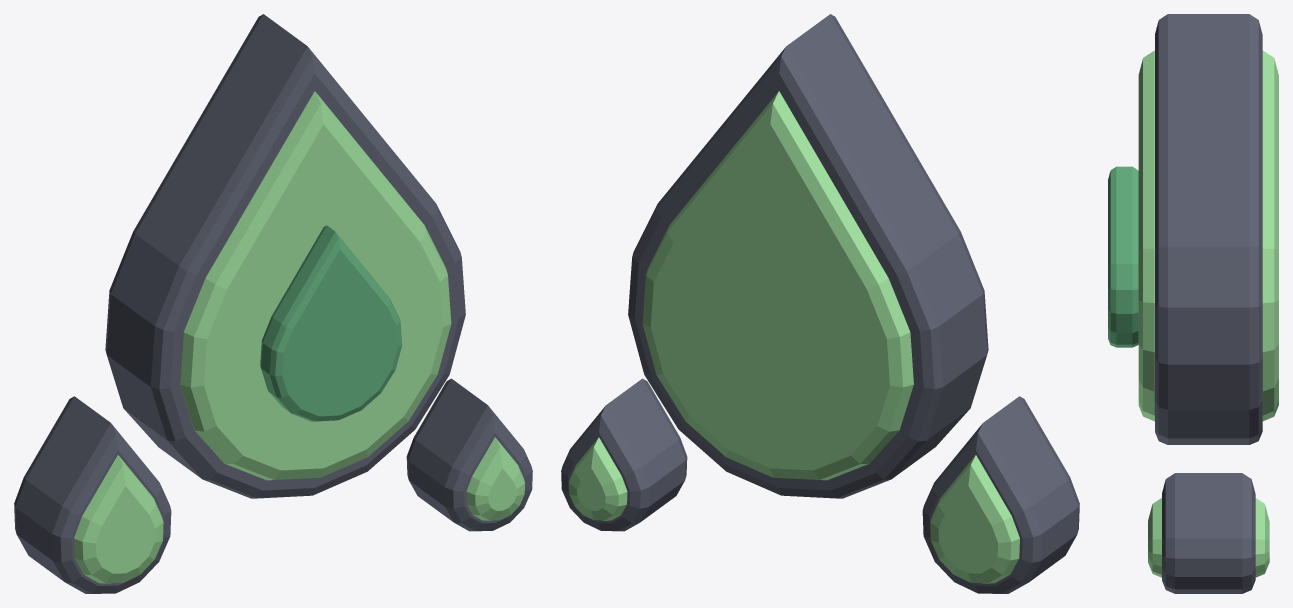
The model's file is game-ui-icon-library-poison-drop-26b274f7__19033.glb.
3 renders of one model, left to right at view 1: azimuth 30°, elevation 25°; view 2: azimuth 150°, elevation 25°; view 3: azimuth 270°, elevation 25°, orthographic. The views are drawn at different scales.
Visible parts, largest first — view 1: poison-drop; view 2: poison-drop; view 3: poison-drop.
Part boxes in pixels (box(x1,y1,x2,y2)): poison-drop: box(14, 14, 532, 593); poison-drop: box(561, 14, 1079, 593); poison-drop: box(1108, 14, 1278, 593).
Size of the model in its own units: 0.8857 by 0.94 by 0.2955.
